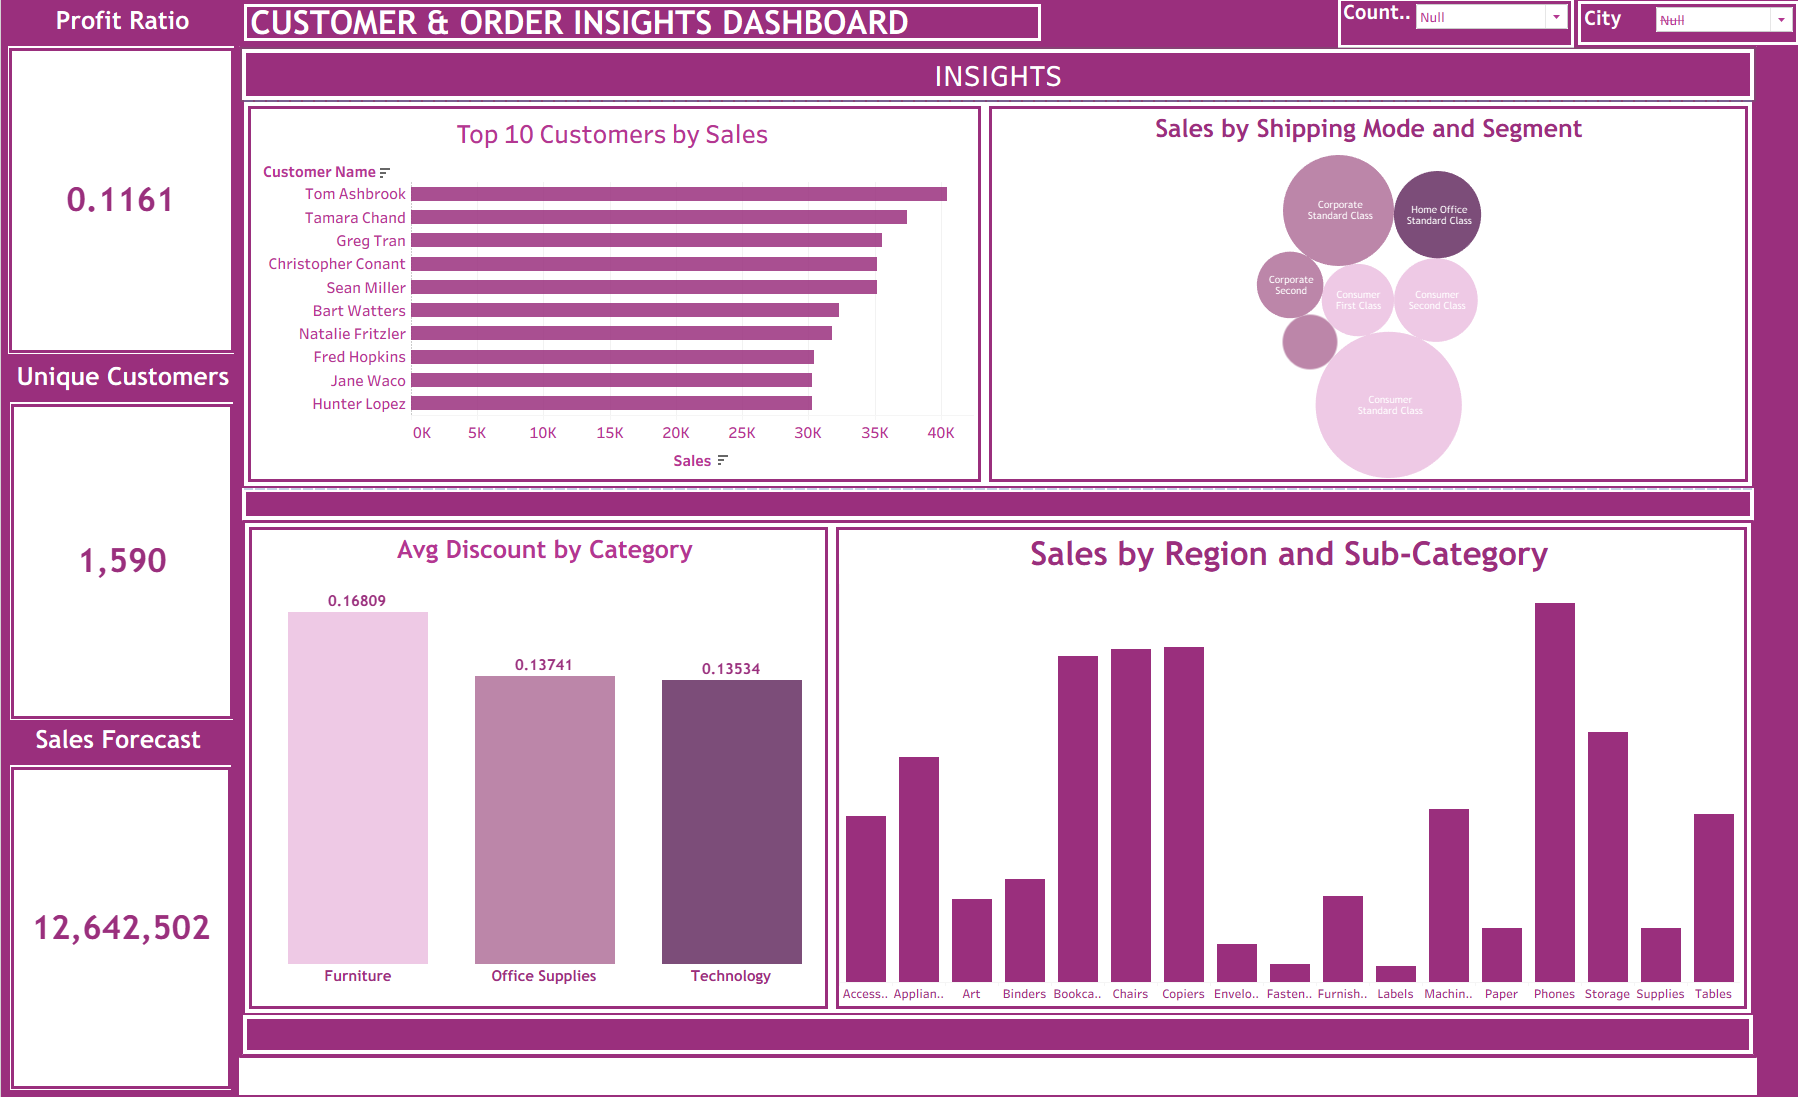

Layout of this report page (visuals, bound fields, positions):
{"tool":"tableau","page":{"name":"dashboard 2","canvas":[1800,1100],"ordinal":0},"visuals":[{"type":"filter","title":"COUN FILTER","param":"[federated.18v7ufm07w2dt3134k2en0ou09ch].[none:Country:nk]","box":[1337,1,236,50]},{"type":"blank","box":[3,3,234,608]},{"type":"text","box":[239,3,805,45]},{"type":"blank","box":[1044,3,711,45]},{"type":"filter","title":"CITY","param":"[federated.18v7ufm07w2dt3134k2en0ou09ch].[none:City:nk]","box":[1577,4,221,44]},{"type":"worksheet","title":"Profit Ratio","mark":"Automatic","box":[7,5,227,352]},{"type":"text","box":[241,52,1512,51]},{"type":"blank","box":[243,105,741,384]},{"type":"blank","box":[984,105,767,384]},{"type":"worksheet","title":"Sales by Shipping Mode and Segment","mark":"Circle","box":[994,113,748,368]},{"type":"worksheet","title":"Top 10 Customers by Sales","mark":"Bar","rows":["Customer Name"],"cols":["Sales"],"box":[250,115,723,366]},{"type":"worksheet","title":"Unique Customers","mark":"Automatic","box":[9,361,224,362]},{"type":"blank","box":[241,491,1512,32]},{"type":"blank","box":[244,526,587,490]},{"type":"blank","box":[831,526,919,490]},{"type":"worksheet","title":"Sales by Region and Sub-Category","mark":"Automatic","rows":["Sales"],"cols":["Sub-Category"],"box":[838,533,901,473]},{"type":"worksheet","title":"Avg Discount by Category","mark":"Automatic","rows":["Discount"],"cols":["Category"],"box":[264,534,560,473]},{"type":"worksheet","title":"CITY","mark":"Automatic","box":[908,587,93,85]},{"type":"worksheet","title":"COUN FILTER","mark":"Automatic","box":[847,590,69,30]},{"type":"blank","box":[3,611,234,486]},{"type":"worksheet","title":"Sales Forecast ","mark":"Automatic","box":[9,724,222,369]},{"type":"blank","box":[242,1018,1510,39]}]}

Visuals, with their boxes in screenshot pixels (x1, y1, x2, y2), scaled from the page's 1800x1100 canvas onto the 1798x1097 screenshot:
"COUN FILTER" filter: [1336, 1, 1571, 51]
blank: [3, 3, 237, 609]
text: [239, 3, 1043, 48]
blank: [1043, 3, 1753, 48]
"CITY" filter: [1575, 4, 1796, 48]
"Profit Ratio" worksheet: [7, 5, 234, 356]
text: [241, 52, 1751, 103]
blank: [243, 105, 983, 488]
blank: [983, 105, 1749, 488]
"Sales by Shipping Mode and Segment" worksheet (Circle marks): [993, 113, 1740, 480]
"Top 10 Customers by Sales" worksheet (Bar marks): [250, 115, 972, 480]
"Unique Customers" worksheet: [9, 360, 233, 721]
blank: [241, 490, 1751, 522]
blank: [244, 525, 830, 1013]
blank: [830, 525, 1748, 1013]
"Sales by Region and Sub-Category" worksheet: [837, 532, 1737, 1003]
"Avg Discount by Category" worksheet: [264, 533, 823, 1004]
"CITY" worksheet: [907, 585, 1000, 670]
"COUN FILTER" worksheet: [846, 588, 915, 618]
blank: [3, 609, 237, 1094]
"Sales Forecast " worksheet: [9, 722, 231, 1090]
blank: [242, 1015, 1750, 1054]
